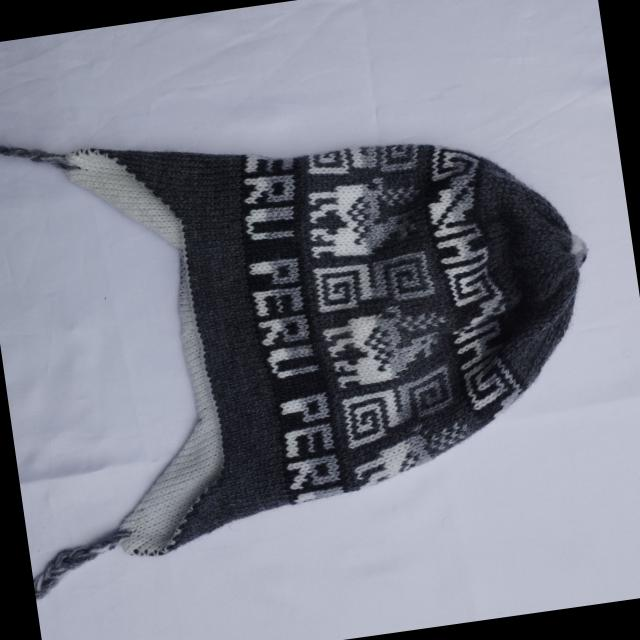Gorro: (0, 54, 625, 600)
